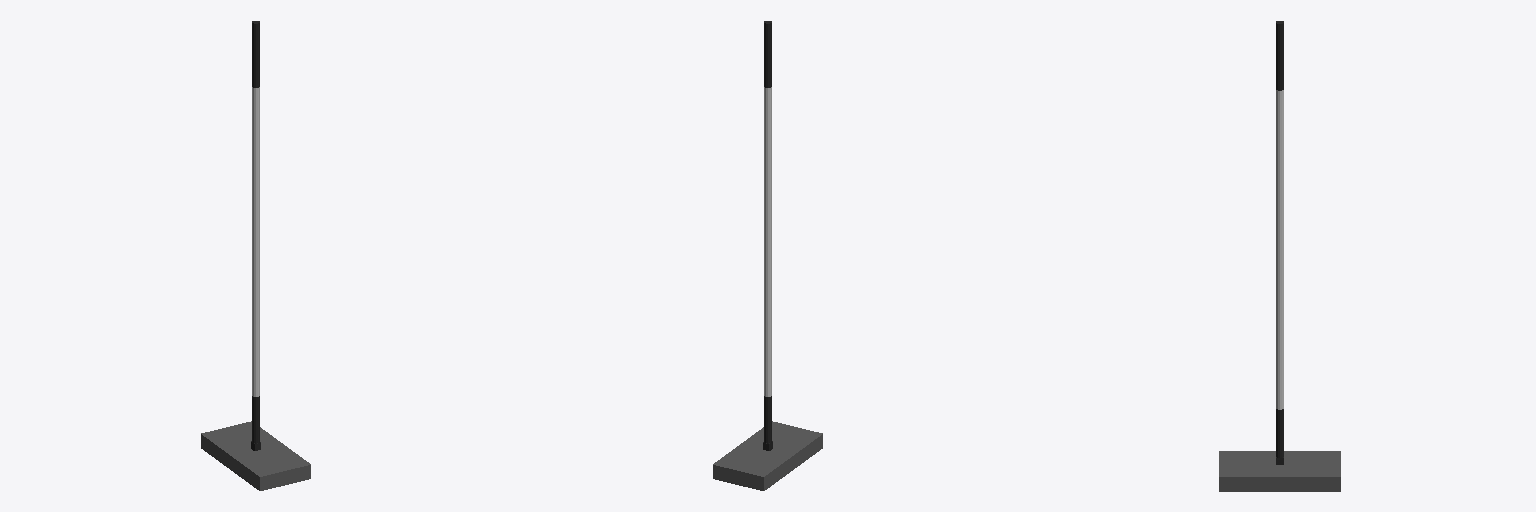
robot.urdf — room610-sweeper:
<?xml version="1.0"?>
<robot name="room610-sweeper"
       xmlns:xi="http://www.w3.org/2001/XInclude"
       xmlns:gazebo="http://playerstage.sourceforge.net/gazebo/xmlschema/#gz"
       xmlns:model="http://playerstage.sourceforge.net/gazebo/xmlschema/#model"
       xmlns:sensor="http://playerstage.sourceforge.net/gazebo/xmlschema/#sensor"
       xmlns:body="http://playerstage.sourceforge.net/gazebo/xmlschema/#body"
       xmlns:geom="http://playerstage.sourceforge.net/gazebo/xmlschema/#geom"
       xmlns:joint="http://playerstage.sourceforge.net/gazebo/xmlschema/#joint"
       xmlns:interface="http://playerstage.sourceforge.net/gazebo/xmlschema/#interface"
       xmlns:rendering="http://playerstage.sourceforge.net/gazebo/xmlschema/#rendering"
       xmlns:renderable="http://playerstage.sourceforge.net/gazebo/xmlschema/#renderable"
       xmlns:controller="http://playerstage.sourceforge.net/gazebo/xmlschema/#controller"
       xmlns:physics="http://playerstage.sourceforge.net/gazebo/xmlschema/#physics">
  <gazebo>
    <static>false</static>
  </gazebo>
  <link name="BOX_link">
    <visual>
      <origin xyz="0 0 0" rpy="0 -0 0"/>
      <geometry>
        <mesh filename="model://room610-sweeper/meshes/BOX_link_mesh.dae" scale="1 1 1" />
      </geometry>
    </visual>
    <collision>
      <origin xyz="0 0 0" rpy="0 -0 0"/>
      <geometry>
        <mesh filename="model://room610-sweeper/meshes/BOX_link_mesh.dae" scale="1 1 1" />
      </geometry>
    </collision>
    <inertial>
      <mass value="0.001" />
      <origin xyz="0 0 0" rpy="0 -0 0"/>
      <inertia ixx="1e-09" ixy="0" ixz="0" iyy="1e-09" iyz="0" izz="1e-09"/>
    </inertial>
  </link>
  <gazebo reference="BOX_link">
    <mu1>0.9</mu1>
    <mu2>0.9</mu2>
  </gazebo>
  <link name="JOINT_link">
    <visual>
      <origin xyz="0 0 0.05" rpy="0 -0 0"/>
      <geometry>
        <mesh filename="model://room610-sweeper/meshes/JOINT_link_mesh.dae" scale="1 1 1" />
      </geometry>
    </visual>
    <collision>
      <origin xyz="0 0 0.05" rpy="0 -0 0"/>
      <geometry>
        <mesh filename="model://room610-sweeper/meshes/JOINT_link_mesh.dae" scale="1 1 1" />
      </geometry>
    </collision>
    <inertial>
      <mass value="0.001" />
      <origin xyz="0 0 0" rpy="0 -0 0"/>
      <inertia ixx="1e-09" ixy="0" ixz="0" iyy="1e-09" iyz="0" izz="1e-09"/>
    </inertial>
  </link>
  <gazebo reference="JOINT_link">
    <mu1>0.9</mu1>
    <mu2>0.9</mu2>
  </gazebo>
  <link name="BAR_link">
    <visual>
      <origin xyz="0 0 0" rpy="0 -0 0"/>
      <geometry>
        <mesh filename="model://room610-sweeper/meshes/BAR_link_mesh.dae" scale="1 1 1" />
      </geometry>
    </visual>
    <collision>
      <origin xyz="0 0 0" rpy="0 -0 0"/>
      <geometry>
        <mesh filename="model://room610-sweeper/meshes/BAR_link_mesh.dae" scale="1 1 1" />
      </geometry>
    </collision>
    <inertial>
      <mass value="0.001" />
      <origin xyz="0 0 0" rpy="0 -0 0"/>
      <inertia ixx="1e-09" ixy="0" ixz="0" iyy="1e-09" iyz="0" izz="1e-09"/>
    </inertial>
  </link>
  <gazebo reference="BAR_link">
    <mu1>0.9</mu1>
    <mu2>0.9</mu2>
  </gazebo>
  <joint name="SWEEPER-P" type="revolute">
    <parent link="BOX_link"/>
    <child  link="JOINT_link"/>
    <origin xyz="0 0 0.05" rpy="0 -0 0 "/>
    <axis   xyz="0 1 0"/>
    <limit lower="-1.5708" upper="1.5708" effort="100" velocity="0.5" />
    <dynamics damping="0.2" friction="0" />
  </joint>
  <transmission type="pr2_mechanism_model/SimpleTransmission" name="SWEEPER-P_trans" >
    <actuator name="SWEEPER-P_motor" />
    <joint name="SWEEPER-P" />
    <mechanicalReduction>1</mechanicalReduction>
  </transmission>
  <gazebo reference="SWEEPER-P">
    <cfmDamping>0.4</cfmDamping>
  </gazebo>
  <joint name="SWEEPER-R" type="revolute">
    <parent link="JOINT_link"/>
    <child  link="BAR_link"/>
    <origin xyz="0 0 0" rpy="0 -0 0 "/>
    <axis   xyz="1 0 0"/>
    <limit lower="-1.5708" upper="1.5708" effort="100" velocity="0.5" />
    <dynamics damping="0.2" friction="0" />
  </joint>
  <transmission type="pr2_mechanism_model/SimpleTransmission" name="SWEEPER-R_trans" >
    <actuator name="SWEEPER-R_motor" />
    <joint name="SWEEPER-R" />
    <mechanicalReduction>1</mechanicalReduction>
  </transmission>
  <gazebo reference="SWEEPER-R">
    <cfmDamping>0.4</cfmDamping>
  </gazebo>
</robot>

--- Render facts (derived) ---
The picture shows the robot from 3 angles, left to right: view 1: azimuth 30°, elevation 25°; view 2: azimuth 150°, elevation 25°; view 3: azimuth 270°, elevation 25°; orthographic projection.
Robot: room610-sweeper — 3 links, 2 joints (2 revolute); root link BOX_link; default pose: all joints at 0.
Links seen in each view (by area): view 1: BOX_link, BAR_link; view 2: BOX_link, BAR_link; view 3: BOX_link, BAR_link.
Link boxes in pixels (x1,y1,x2,y2): BOX_link: (201, 421, 310, 490); BAR_link: (252, 21, 259, 443); BOX_link: (713, 421, 822, 490); BAR_link: (764, 21, 771, 443); BOX_link: (1219, 451, 1340, 491); BAR_link: (1276, 21, 1283, 457).
Size in the robot's own frame: 0.15 by 0.3 by 1.23 metres.
Meshes: 3 distinct files referenced, 3 mesh visuals loaded (3 Collada DAE).
